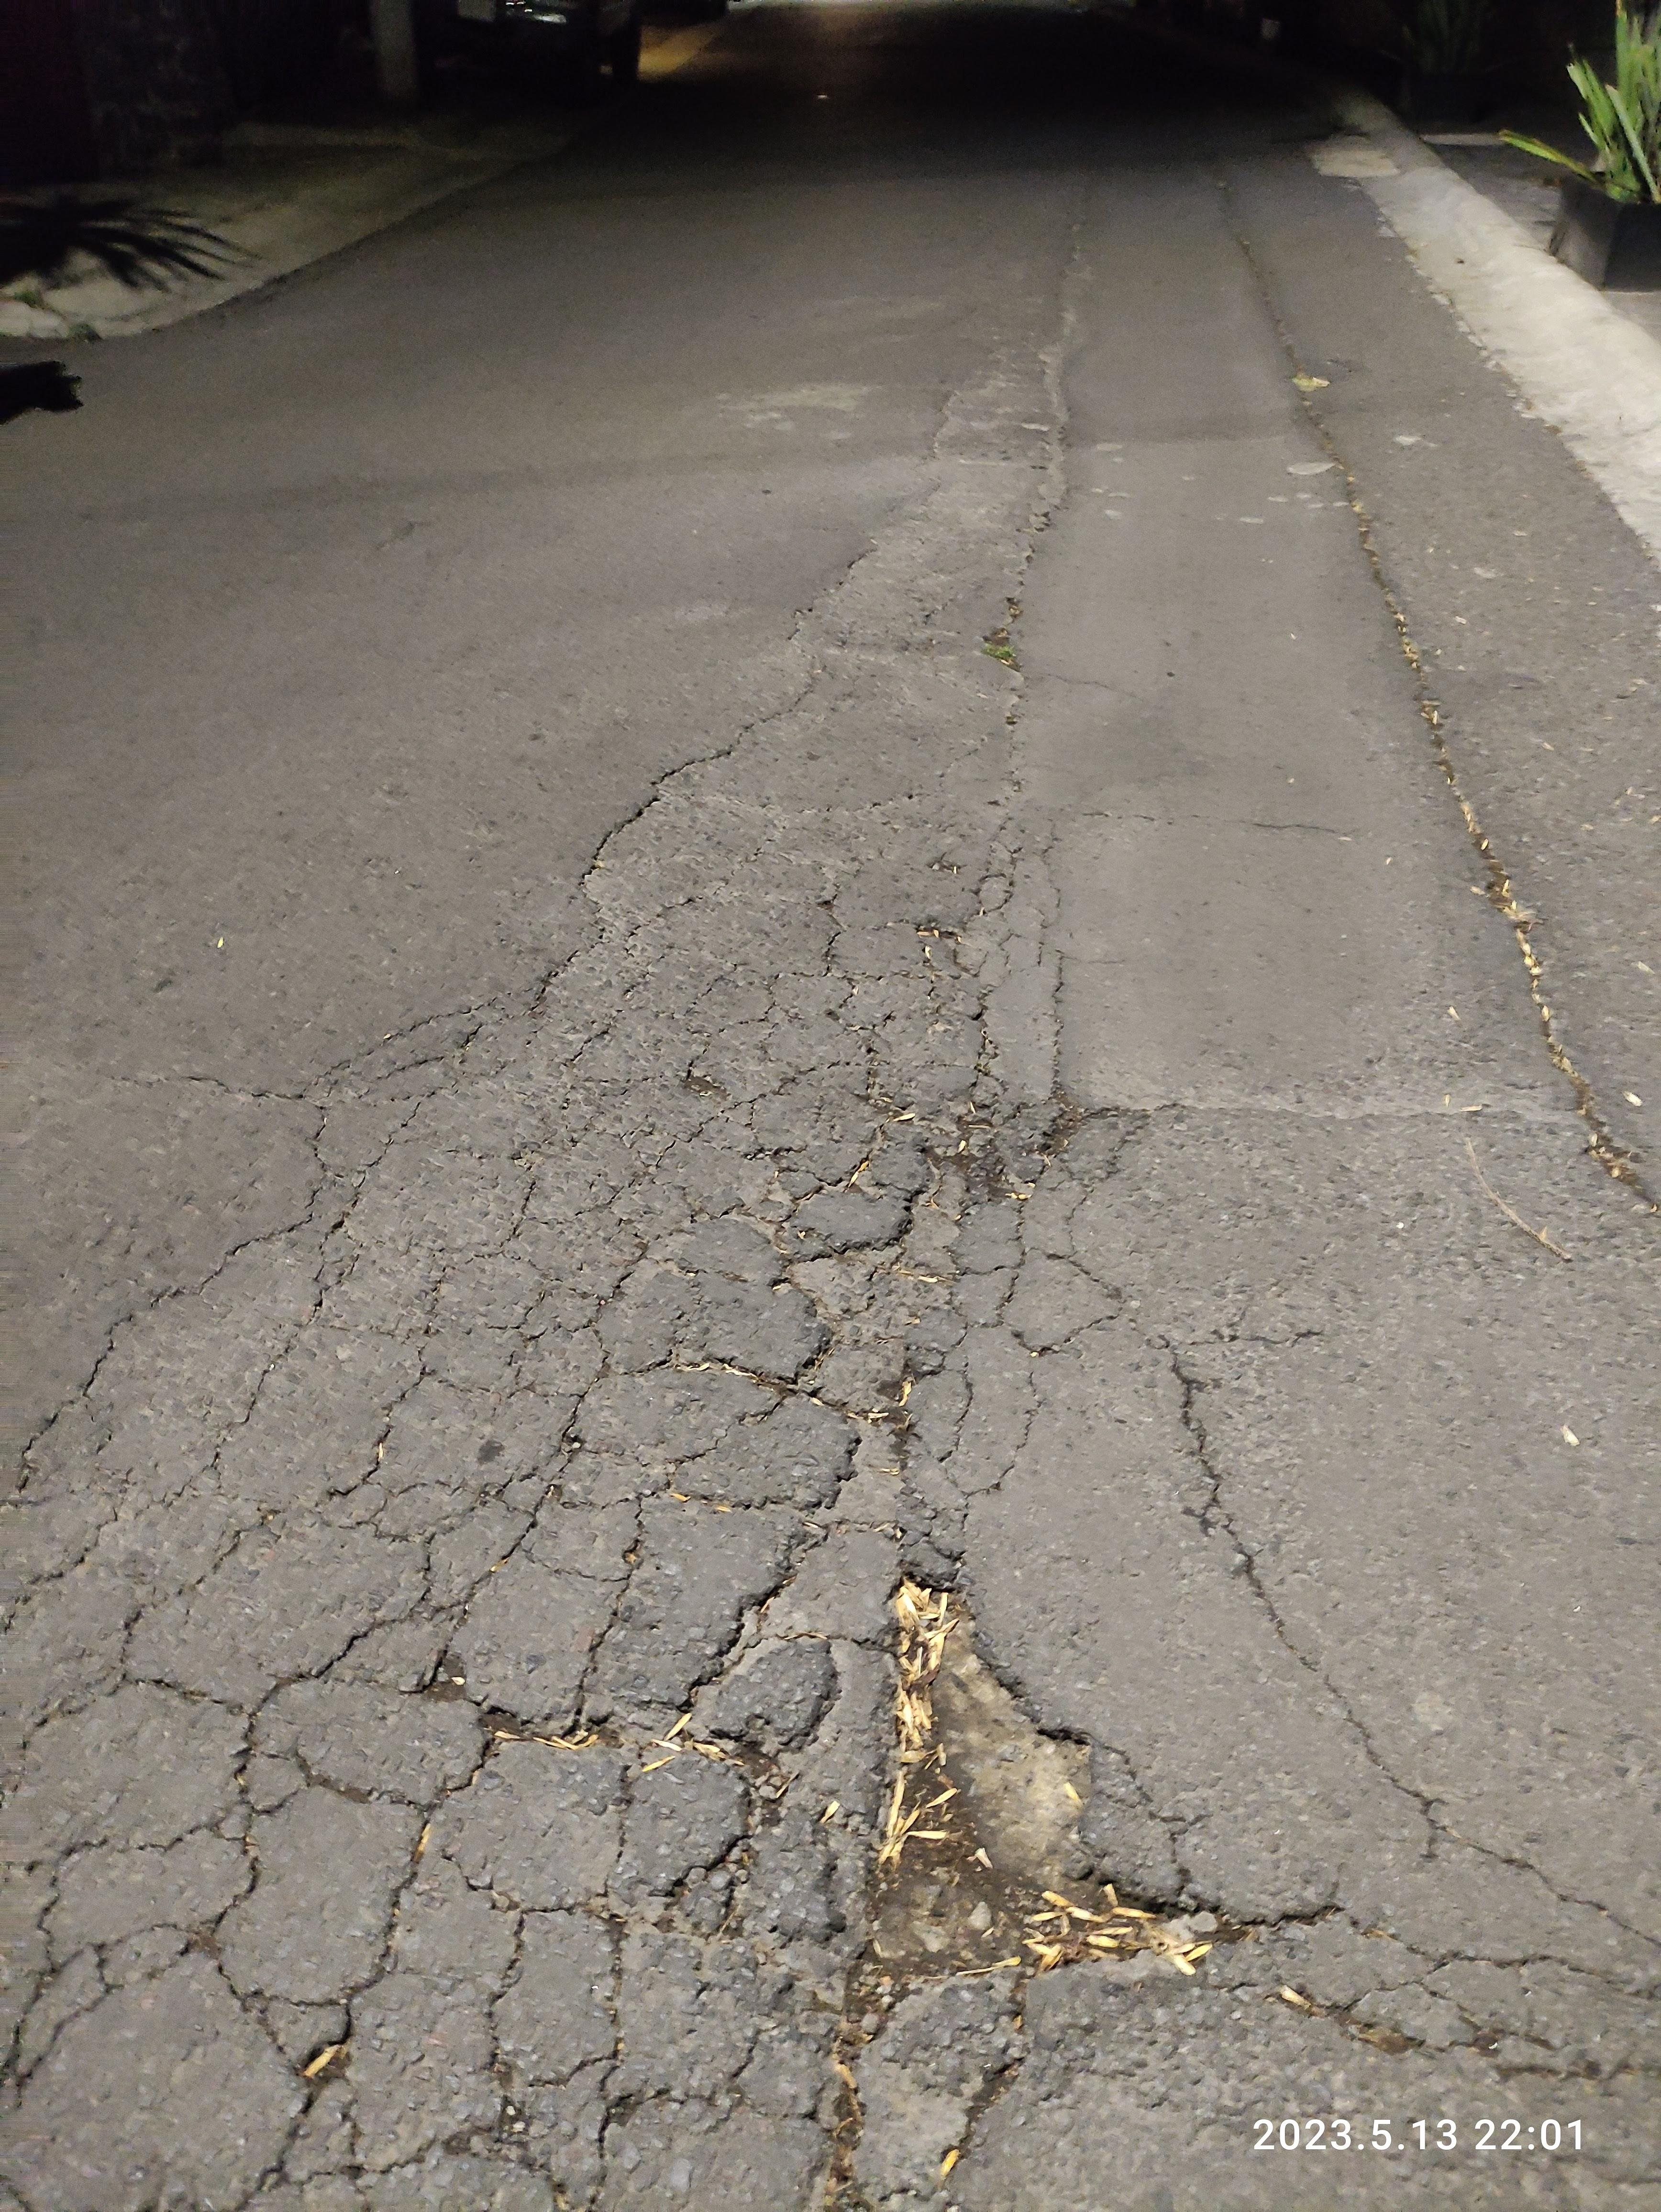alligator-crack: (52, 827, 1316, 2177)
crack: (1230, 258, 1516, 769), (1417, 794, 1661, 1242)
